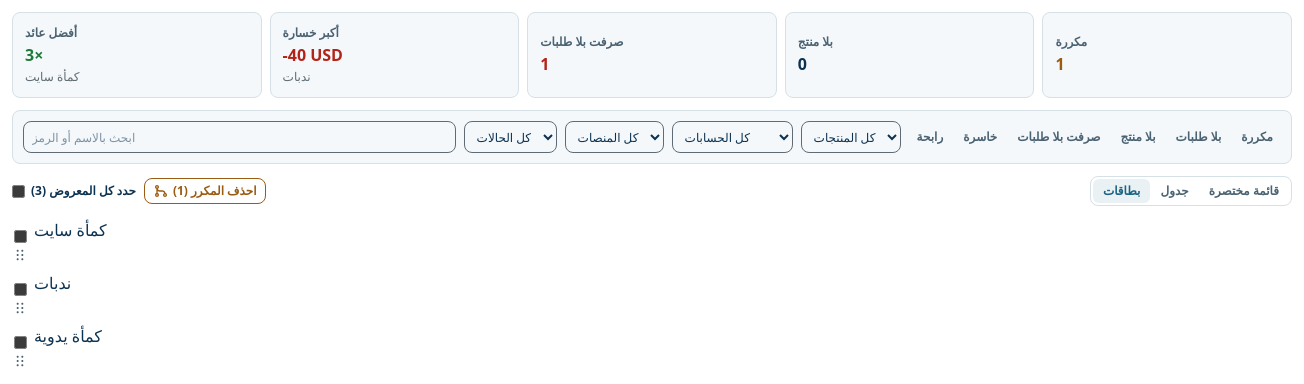
it: the campaigns board › shows the server’s cards, and a card narrows the list
Expected: the text "3×" is shown, [25,44,43,66]
Click the button "صرفت بلا طلبات 1". click: click(652, 55)
box: [527,12,777,98]
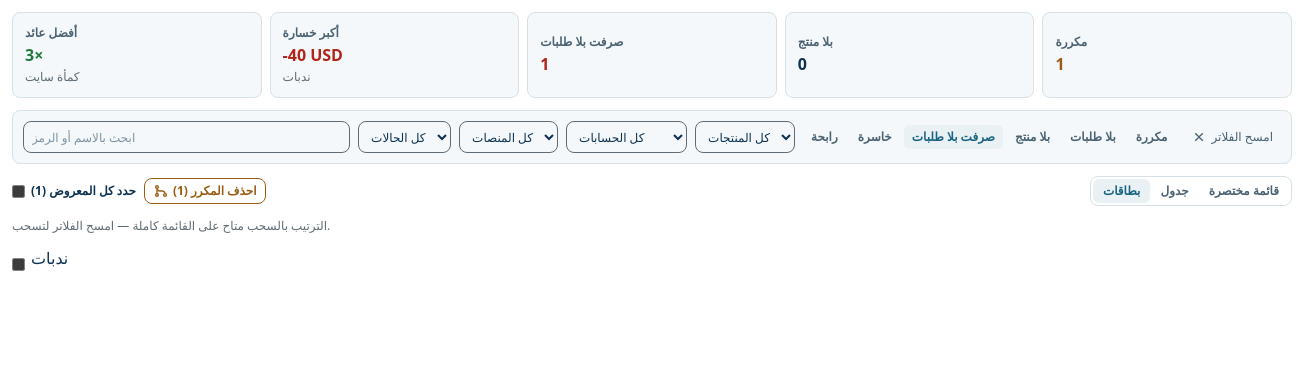
Expected: the elements with test id "card" read "ندبات", in this order, [31,247,68,269]
